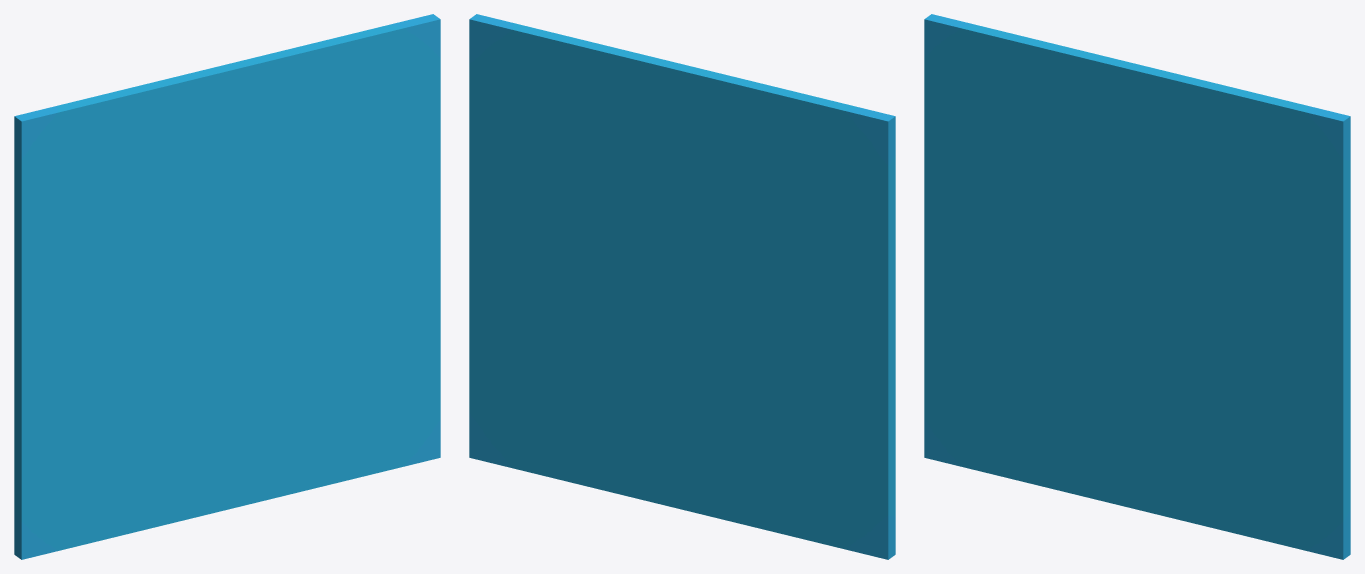
The model's file is DISP_Beryllium_3mm.gltf.
3 renders of one model, left to right at view 1: azimuth 30°, elevation 25°; view 2: azimuth 150°, elevation 25°; view 3: azimuth 330°, elevation 25°, orthographic.
Visible parts, largest first — view 1: Renderer Node; view 2: Renderer Node; view 3: Renderer Node.
Part boxes in pixels (x1,y1,x2,y2): Renderer Node: [14, 14, 440, 559]; Renderer Node: [469, 14, 895, 559]; Renderer Node: [924, 14, 1350, 559].
Size of the model in its own units: 115 by 115 by 3.46.
1 material, 1 textured.
